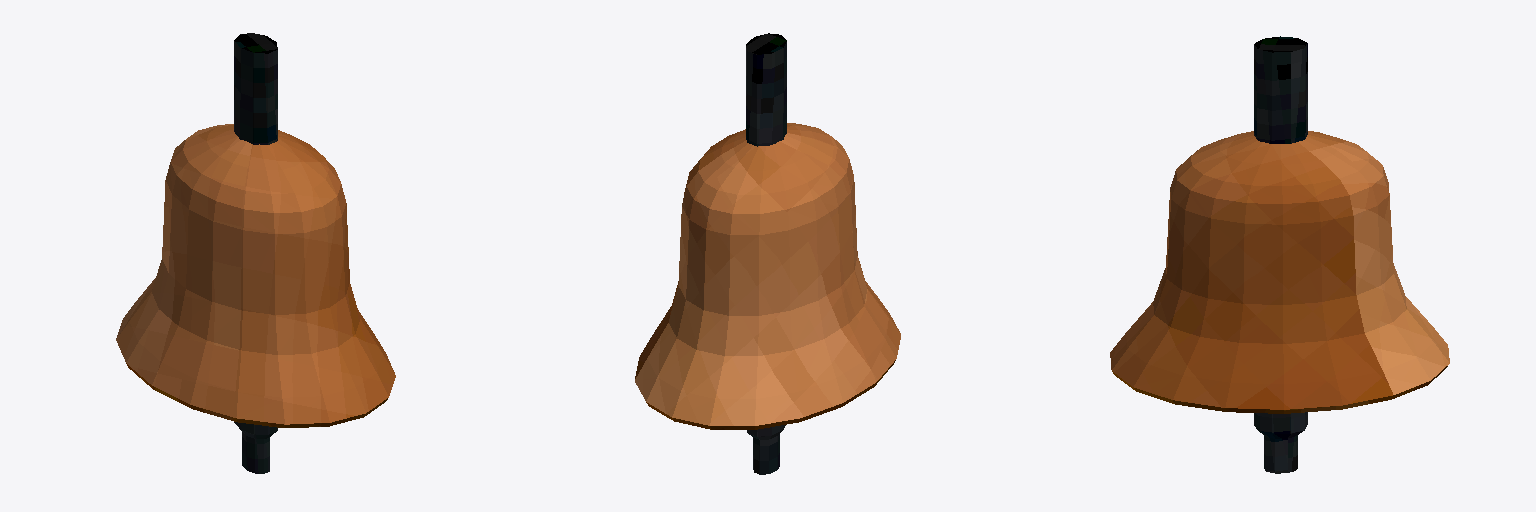
The picture shows the model from 3 angles: view 1: azimuth 30°, elevation 25°; view 2: azimuth 150°, elevation 25°; view 3: azimuth 270°, elevation 25°; orthographic projection.
Visible parts, largest first — view 1: Campana; view 2: Campana; view 3: Campana.
Boxes of the visible parts, x1=… form: Campana: x1=116, y1=33, x2=395, y2=473; Campana: x1=635, y1=33, x2=900, y2=474; Campana: x1=1110, y1=36, x2=1449, y2=473.
Bounding box in the file's own units: 0.1475 × 0.2807 × 0.204.
Materials: 2 (2 with a texture image).